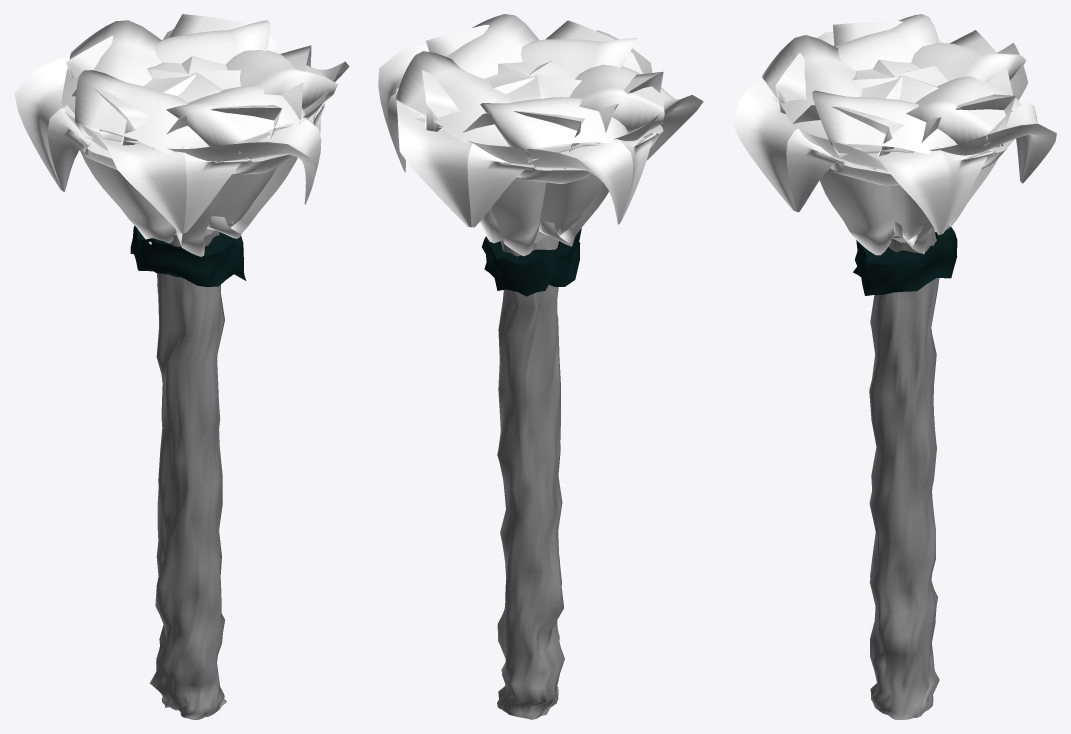
The model's file is flower_tree_ne 1.FBX.
The picture shows the model from 3 angles, left to right: view 1: azimuth 30°, elevation 25°; view 2: azimuth 150°, elevation 25°; view 3: azimuth 270°, elevation 25°; orthographic projection.
Visible parts, largest first — view 1: Stem, petal002, petal003, petal001, petal004, petal, Donut001; view 2: Stem, petal, petal001, petal002, petal004, petal003, Donut001; view 3: Stem, petal004, petal003, petal, petal001, petal002, Donut001.
Boxes of the visible parts, x1=… form: Stem: x1=149, y1=229, x2=226, y2=719; petal002: x1=61, y1=20, x2=311, y2=244; petal003: x1=75, y1=14, x2=324, y2=256; petal001: x1=14, y1=20, x2=281, y2=191; petal004: x1=66, y1=35, x2=349, y2=238; petal: x1=72, y1=29, x2=337, y2=145; Donut001: x1=130, y1=225, x2=246, y2=286; Stem: x1=497, y1=231, x2=564, y2=719; petal: x1=396, y1=14, x2=663, y2=243; petal001: x1=395, y1=20, x2=663, y2=256; petal002: x1=425, y1=25, x2=703, y2=246; petal004: x1=378, y1=37, x2=636, y2=172; petal003: x1=421, y1=30, x2=664, y2=132; Donut001: x1=482, y1=228, x2=581, y2=296; Stem: x1=869, y1=228, x2=939, y2=719; petal004: x1=762, y1=30, x2=1014, y2=255; petal003: x1=732, y1=14, x2=1015, y2=240; petal: x1=812, y1=20, x2=1056, y2=254; petal001: x1=775, y1=42, x2=1028, y2=231; petal002: x1=793, y1=31, x2=1025, y2=230; Donut001: x1=853, y1=227, x2=957, y2=295.
Size of the model in its own units: 0.0659 by 0.0667 by 0.1456.
4 materials, 1 textured.
